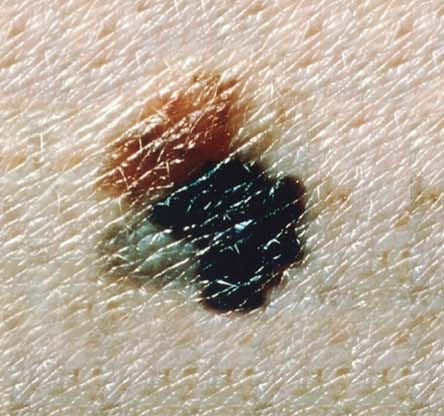Melanoma: (99, 75, 308, 316)
